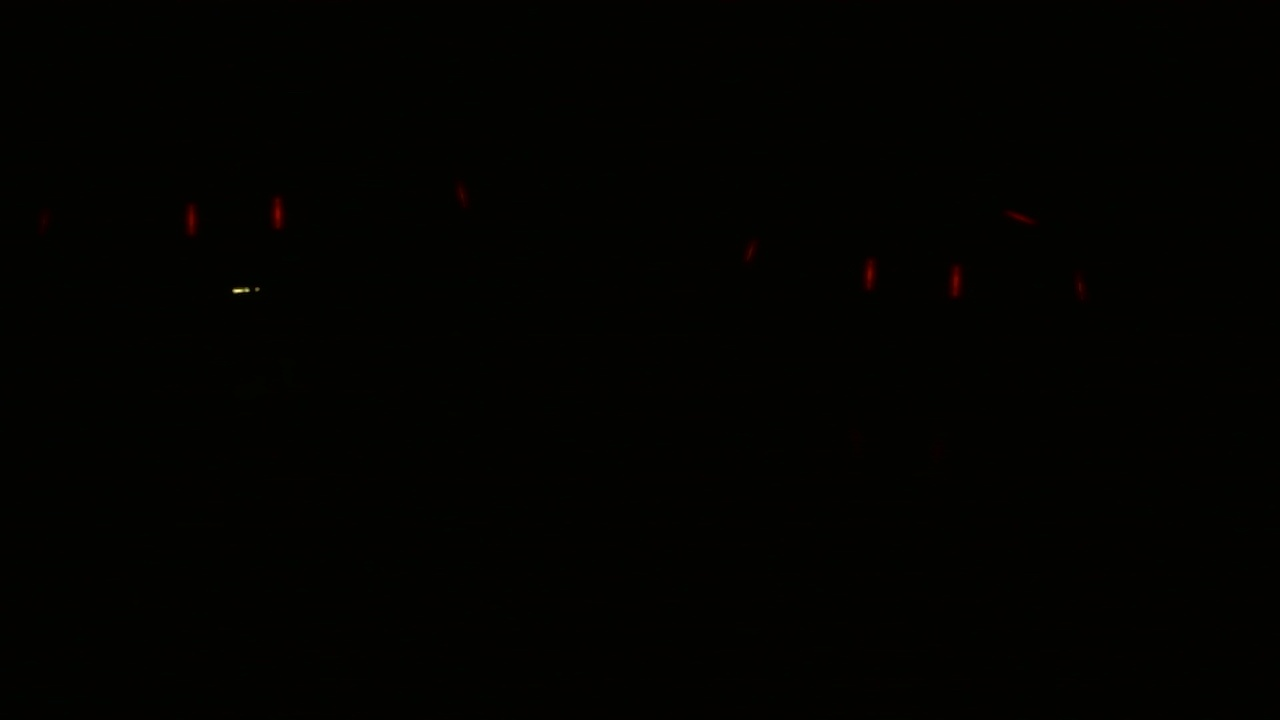pair1: (863, 253, 963, 298), (184, 197, 290, 231)
